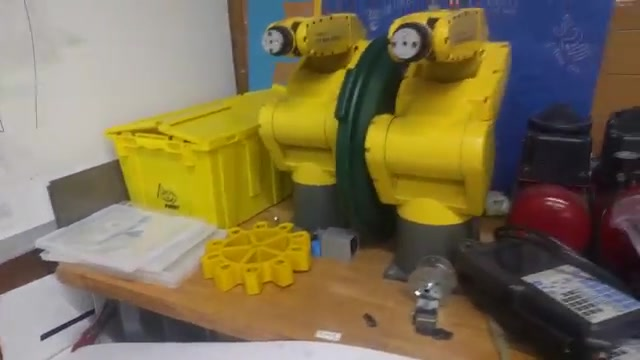gear: (199, 218, 312, 299)
